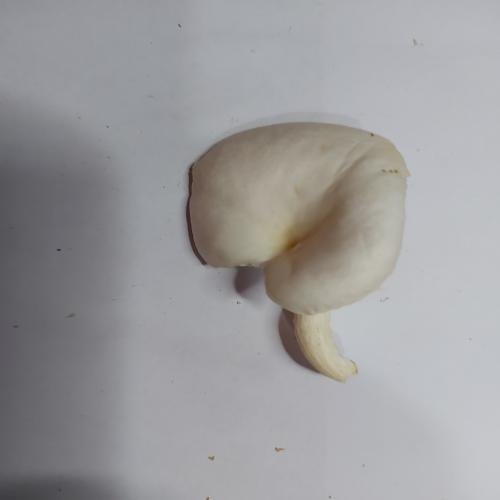Oyster Mushroom: (185, 120, 411, 383)
